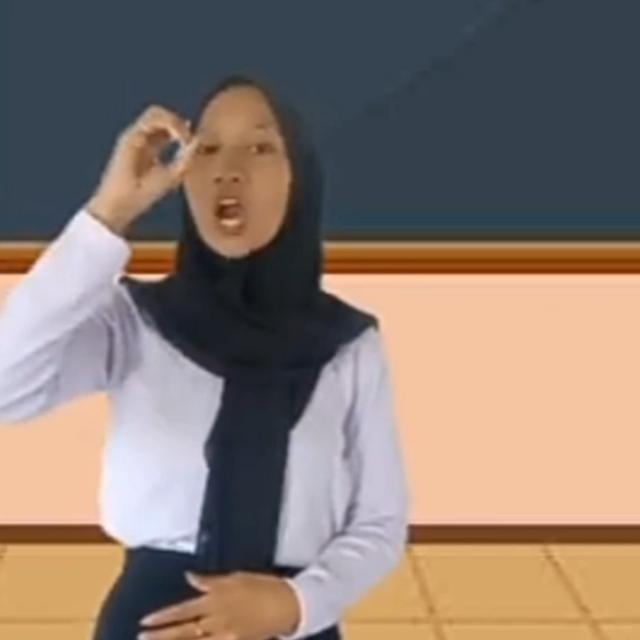O: (105, 100, 199, 214)
